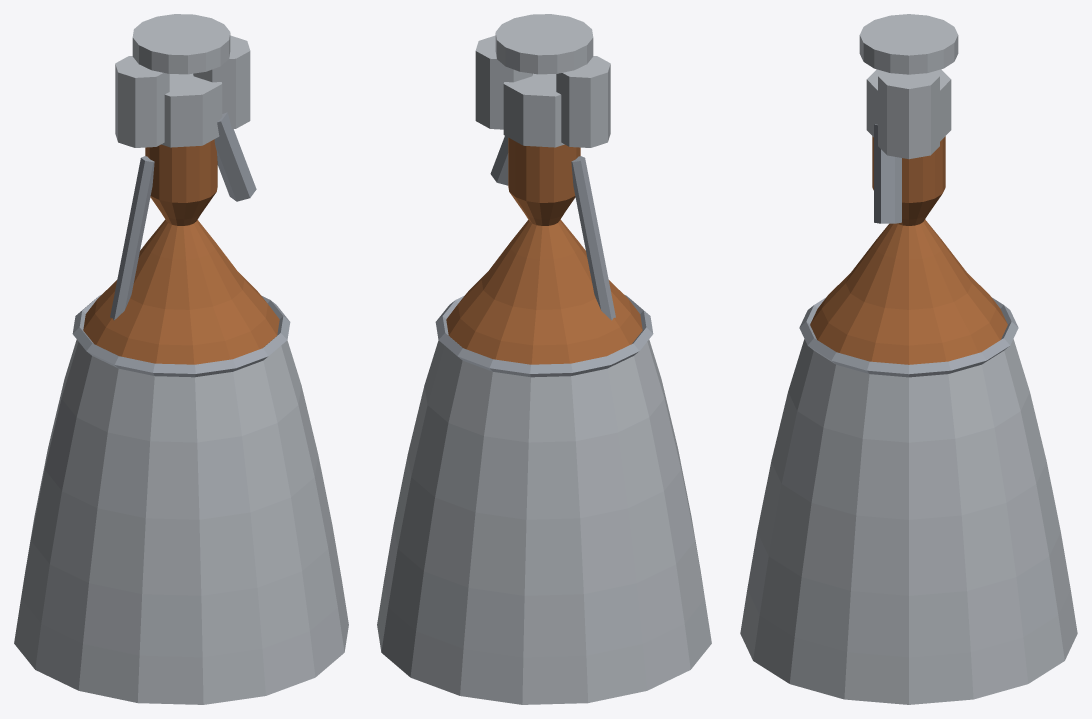
Rendered from raptor-vacuum.glb.
The picture shows the model from 3 angles, left to right: view 1: azimuth 30°, elevation 25°; view 2: azimuth 150°, elevation 25°; view 3: azimuth 270°, elevation 25°; orthographic projection.
Parts seen in each view (by area): view 1: RaptorVacuum_Steel, RaptorVacuum_Copper, RaptorVacuum_Metal; view 2: RaptorVacuum_Steel, RaptorVacuum_Copper, RaptorVacuum_Metal; view 3: RaptorVacuum_Steel, RaptorVacuum_Copper, RaptorVacuum_Metal.
Part boxes in pixels (<box>): RaptorVacuum_Steel: <box>14,14,348,704</box>; RaptorVacuum_Copper: <box>83,139,279,364</box>; RaptorVacuum_Metal: <box>72,112,290,377</box>; RaptorVacuum_Steel: <box>377,14,711,704</box>; RaptorVacuum_Copper: <box>446,137,642,364</box>; RaptorVacuum_Metal: <box>435,136,653,377</box>; RaptorVacuum_Steel: <box>740,14,1077,704</box>; RaptorVacuum_Copper: <box>810,136,1007,364</box>; RaptorVacuum_Metal: <box>799,124,1018,377</box>.
Size of the model in its own units: 2.4 by 4.7 by 2.4.
